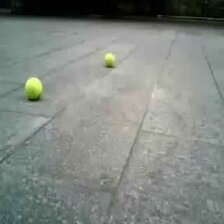tennis: (24, 78, 42, 100), (104, 53, 116, 65)
